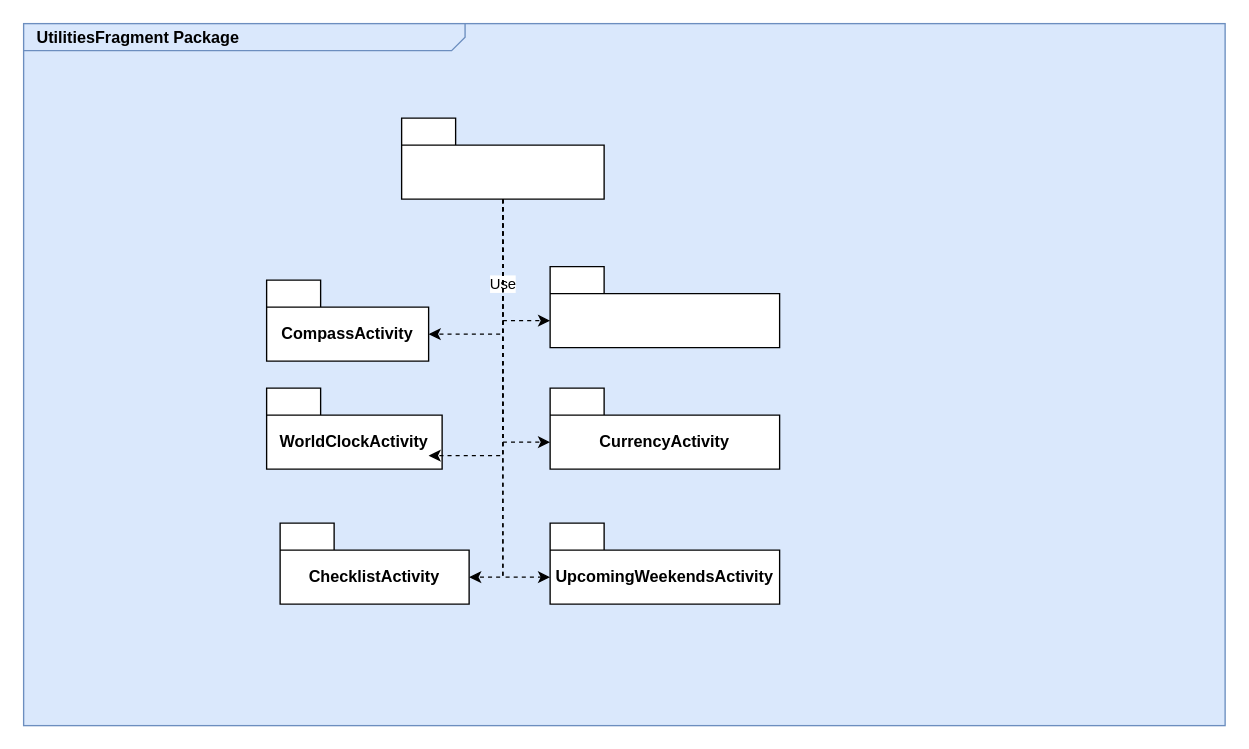
Some shapes in this 1249 by 749 pixel diagram are drawn without their labels. The box of each missing label's shape, as (x1, y1, x2, y2) in pixels:
UtilitiesFragment: (400, 117, 604, 199)
WeatherForecastActivity: (549, 265, 780, 348)
